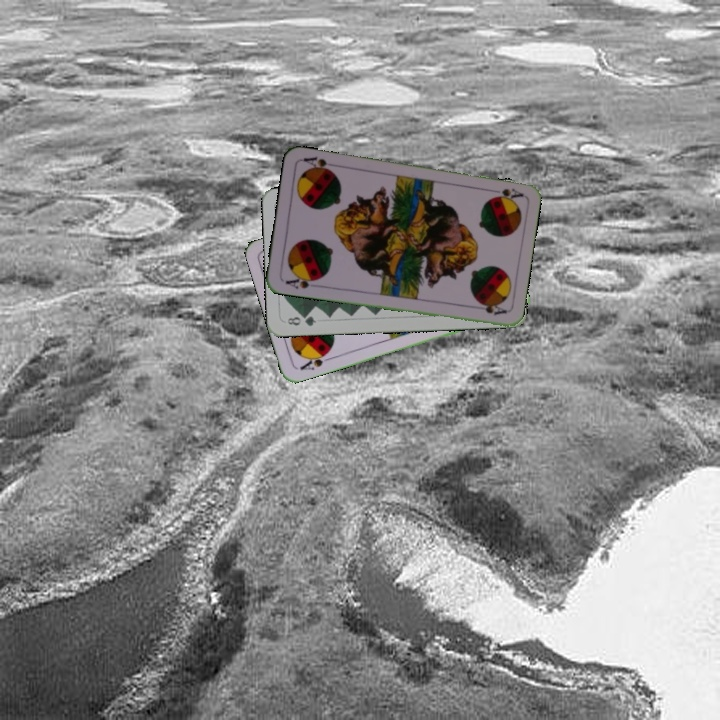G8: (283, 311, 319, 329)
SA: (296, 348, 334, 373), (281, 271, 322, 292), (485, 184, 525, 202)
